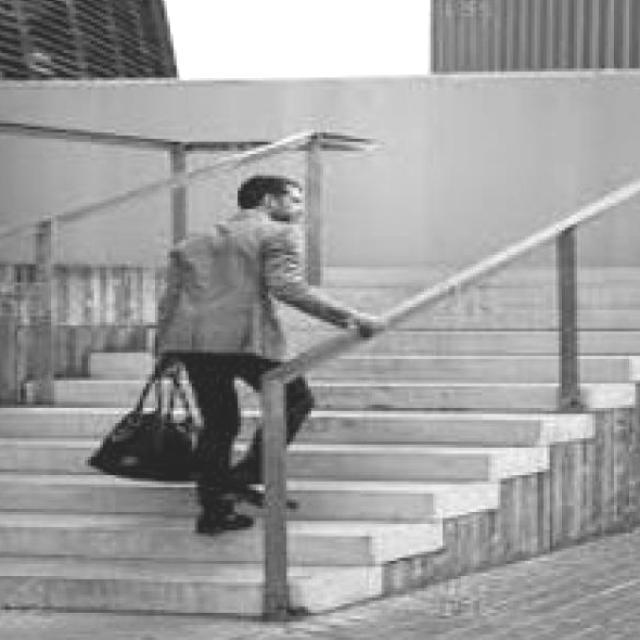stair: (0, 386, 308, 610)
